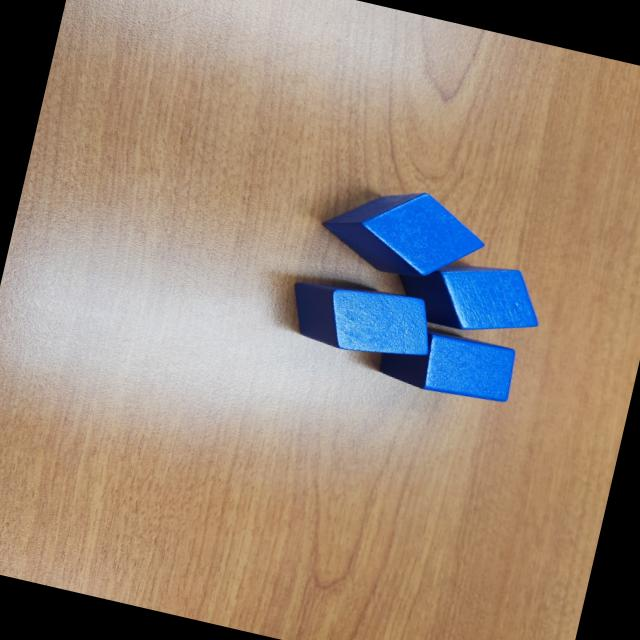blue: (313, 172, 494, 294), (388, 243, 549, 347), (282, 270, 446, 372), (376, 319, 521, 410)
